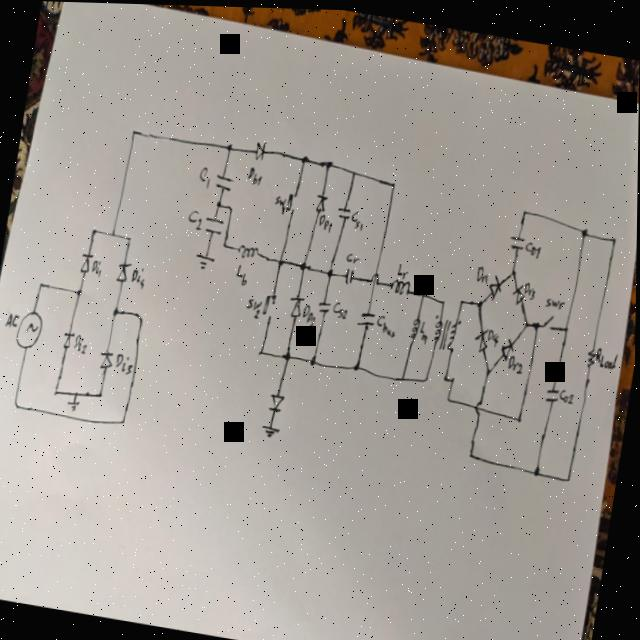capacitor: (202, 212, 226, 236), (213, 170, 235, 192), (357, 305, 378, 328), (509, 229, 527, 250), (545, 382, 561, 401), (337, 202, 353, 219), (318, 297, 332, 311), (345, 264, 355, 283)
crossover: (474, 395, 486, 414), (370, 269, 383, 285)
diode: (267, 388, 288, 417), (287, 291, 307, 317), (488, 270, 505, 299), (499, 332, 517, 359), (474, 324, 492, 350), (512, 278, 529, 304), (116, 259, 133, 283), (79, 250, 95, 274), (61, 327, 77, 351), (99, 348, 116, 370), (253, 136, 267, 162), (314, 190, 329, 211)
ground: (193, 247, 217, 272), (260, 420, 283, 440), (67, 398, 81, 412)
inductor: (389, 273, 411, 295), (237, 242, 261, 259), (410, 311, 422, 342)
junction: (531, 314, 541, 330), (484, 361, 494, 375), (283, 348, 293, 361), (522, 314, 531, 328), (533, 461, 542, 474), (580, 223, 589, 236), (354, 357, 362, 371), (310, 352, 318, 365), (225, 139, 233, 152), (300, 258, 308, 271), (277, 254, 285, 267), (215, 196, 223, 209), (130, 126, 138, 137), (390, 176, 398, 187), (53, 386, 61, 397), (77, 286, 84, 298), (13, 398, 20, 410), (510, 264, 517, 276), (112, 305, 119, 316), (327, 265, 334, 276), (563, 320, 570, 331), (301, 152, 308, 163), (98, 388, 105, 399), (258, 345, 265, 356), (326, 157, 333, 168), (121, 415, 128, 426), (566, 469, 573, 480), (517, 411, 524, 422), (477, 295, 484, 306), (469, 446, 476, 457), (139, 312, 146, 323), (222, 238, 229, 249), (351, 165, 358, 175), (38, 279, 45, 289), (91, 225, 98, 235), (522, 203, 529, 213), (459, 293, 466, 303), (227, 202, 234, 212), (451, 372, 457, 382), (443, 370, 449, 380), (400, 371, 406, 380), (110, 229, 116, 238), (611, 232, 617, 241), (424, 372, 430, 381), (127, 234, 133, 243), (441, 295, 447, 304), (421, 288, 427, 297), (446, 392, 452, 400), (75, 390, 80, 397)
resistor: (585, 335, 600, 377)
source: (14, 308, 46, 352)
switch: (262, 288, 279, 322), (286, 188, 299, 213), (543, 310, 559, 330)
text: (595, 342, 620, 366), (376, 311, 399, 337), (245, 292, 265, 320), (301, 301, 319, 329), (114, 351, 135, 375), (505, 349, 526, 372), (186, 206, 205, 231), (393, 256, 412, 279), (130, 265, 148, 289), (246, 162, 264, 186), (73, 331, 90, 355), (234, 261, 251, 285), (524, 235, 543, 256), (349, 207, 366, 230), (198, 163, 213, 189), (332, 297, 350, 318), (475, 261, 492, 283), (485, 323, 502, 344), (520, 277, 537, 298), (273, 190, 288, 213), (419, 316, 431, 344), (559, 384, 577, 402), (318, 210, 334, 230), (5, 310, 21, 330), (546, 292, 566, 307), (346, 249, 362, 265), (91, 257, 104, 276)
transformer: (430, 310, 463, 351)
